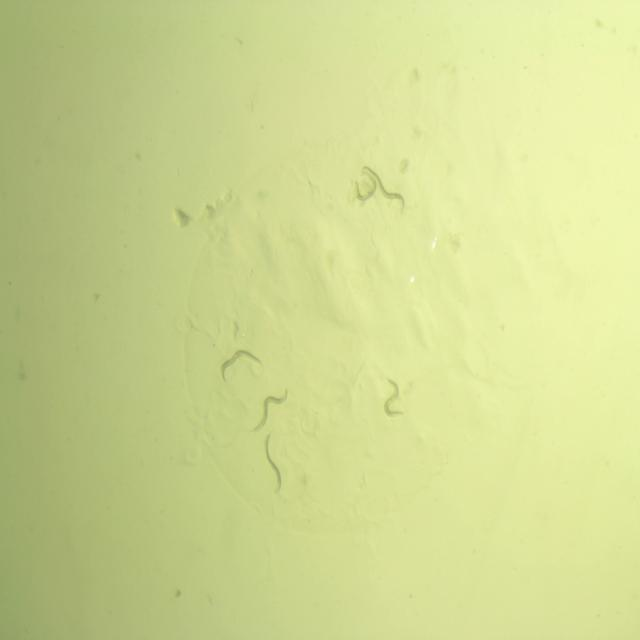worm: (362, 163, 409, 215), (248, 384, 290, 437), (219, 346, 266, 389), (378, 373, 408, 428), (261, 432, 285, 498), (350, 168, 380, 208)
